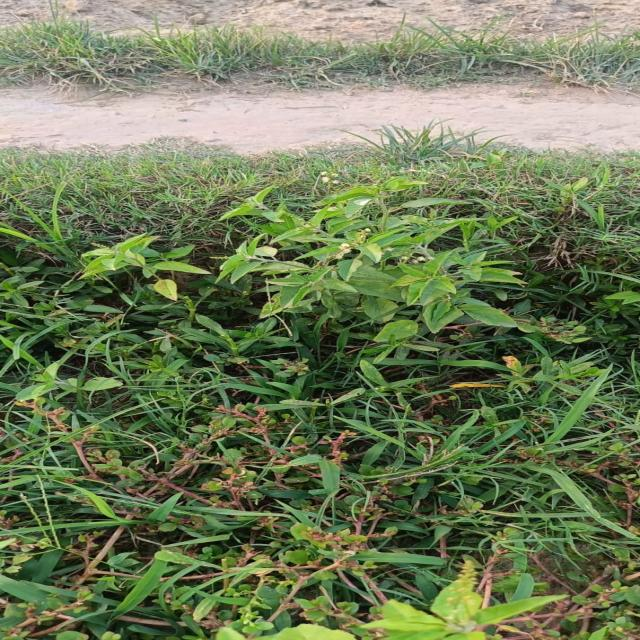plant: (79, 176, 523, 350)
